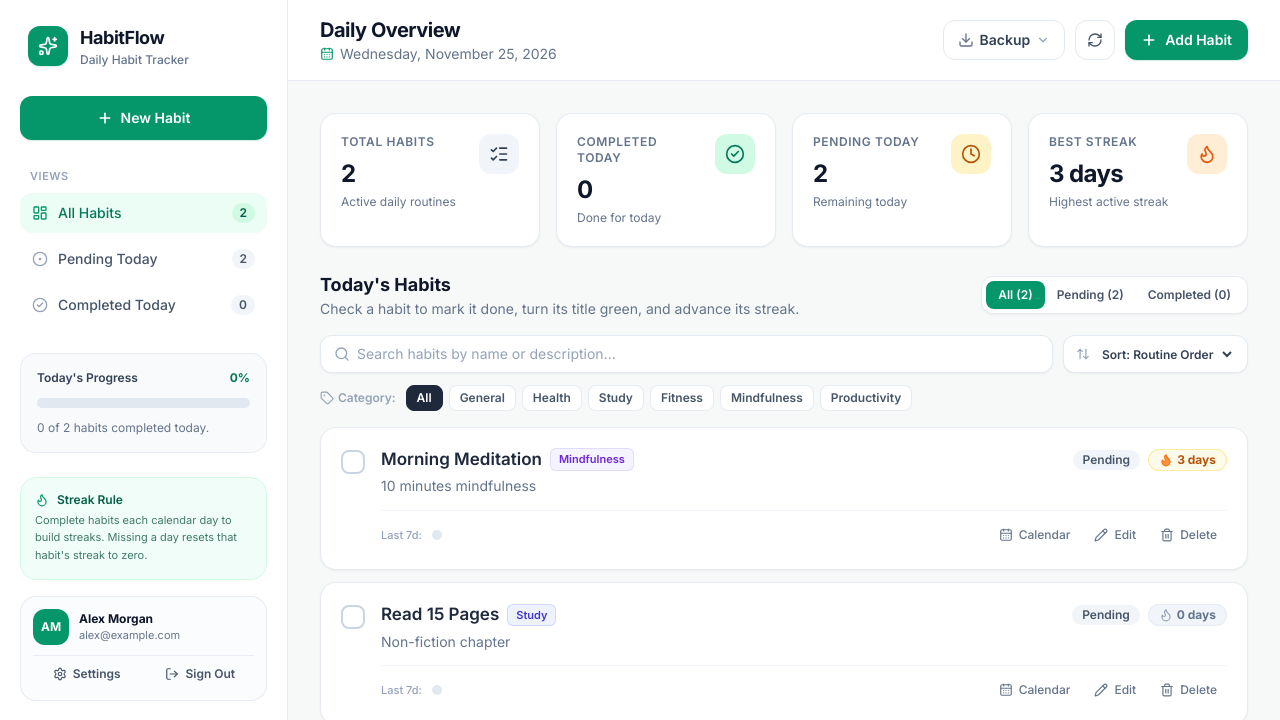
HabitFlow v2.0 Production UI: Auth, Multi-User Dashboard, Search/Sort & Heatmap › turns ONLY the checked habit text green, increments its streak by 1, and reverts cleanly when unchecked
expect the element with test id "habit-streak-1" reads "3 days": met, box [1148,449,1227,471]
What coordinates should you click on to do the following:
click the checkbox named "Mark \"Morning Meditation\" as complete"
I would click on:
 (353, 462)
Its box is [341,450,365,474].
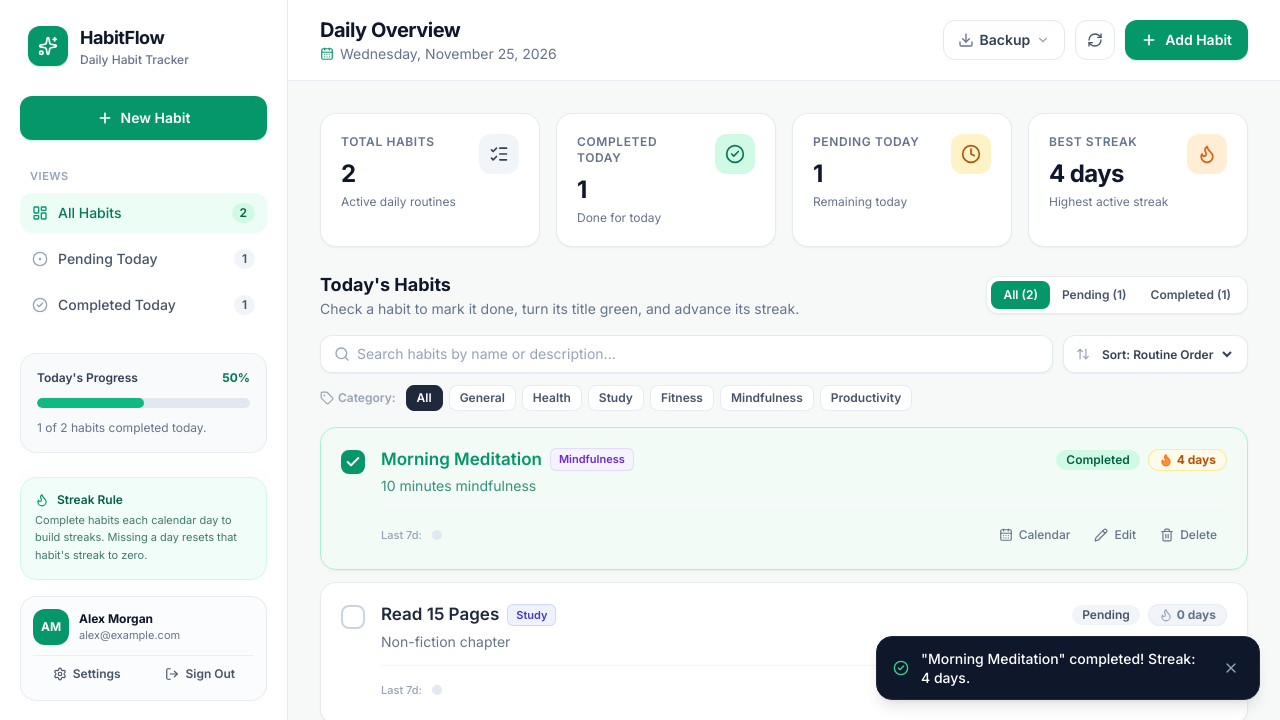
expect the element with test id "habit-streak-2" reads "0 days": met, box [1148,604,1227,626]
expect the text with test id "habit-status-1" reads "Completed": met, box [1066,452,1130,467]
expect the element with test id "habit-streak-1" reads "4 days": met, box [1148,449,1227,471]
What coordinates should you click on to do the following:
click the checkbox named "Mark \"Morning Meditation\" as incomplete"
I would click on:
 (353, 462)
Its box is [341,450,365,474].
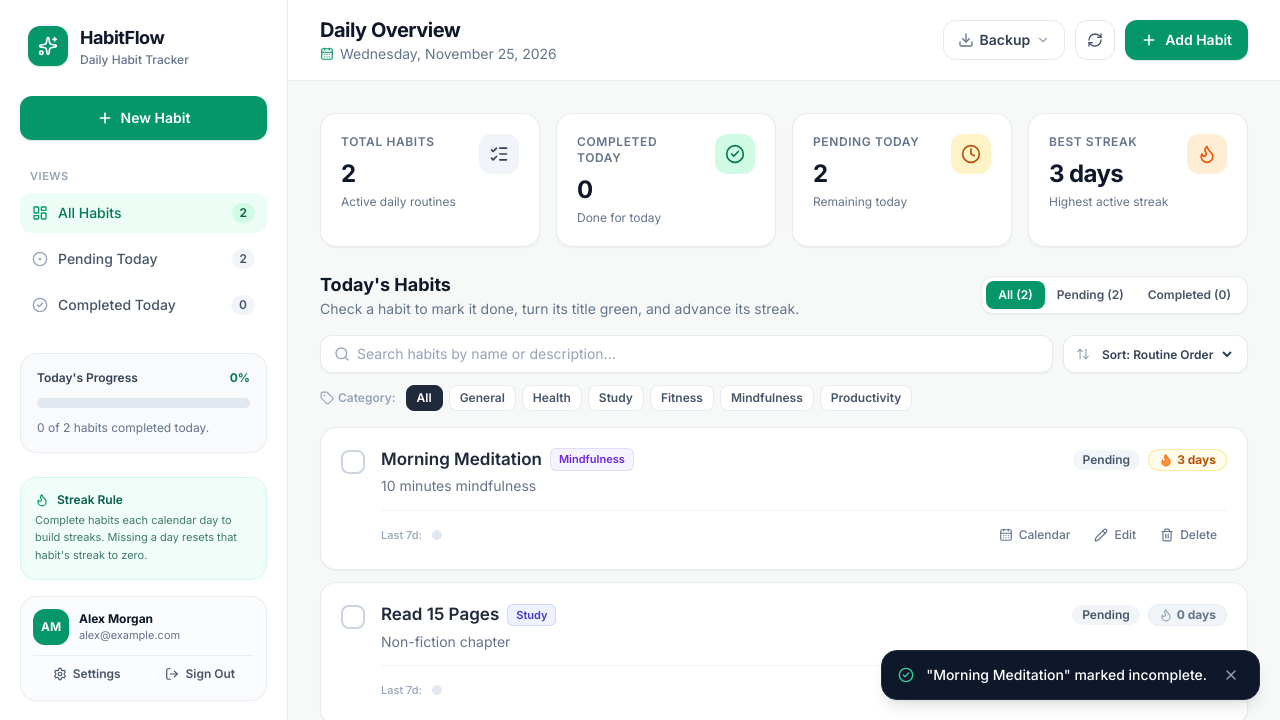
expect the element with test id "habit-streak-1" reads "3 days": met, box [1148,449,1227,471]
